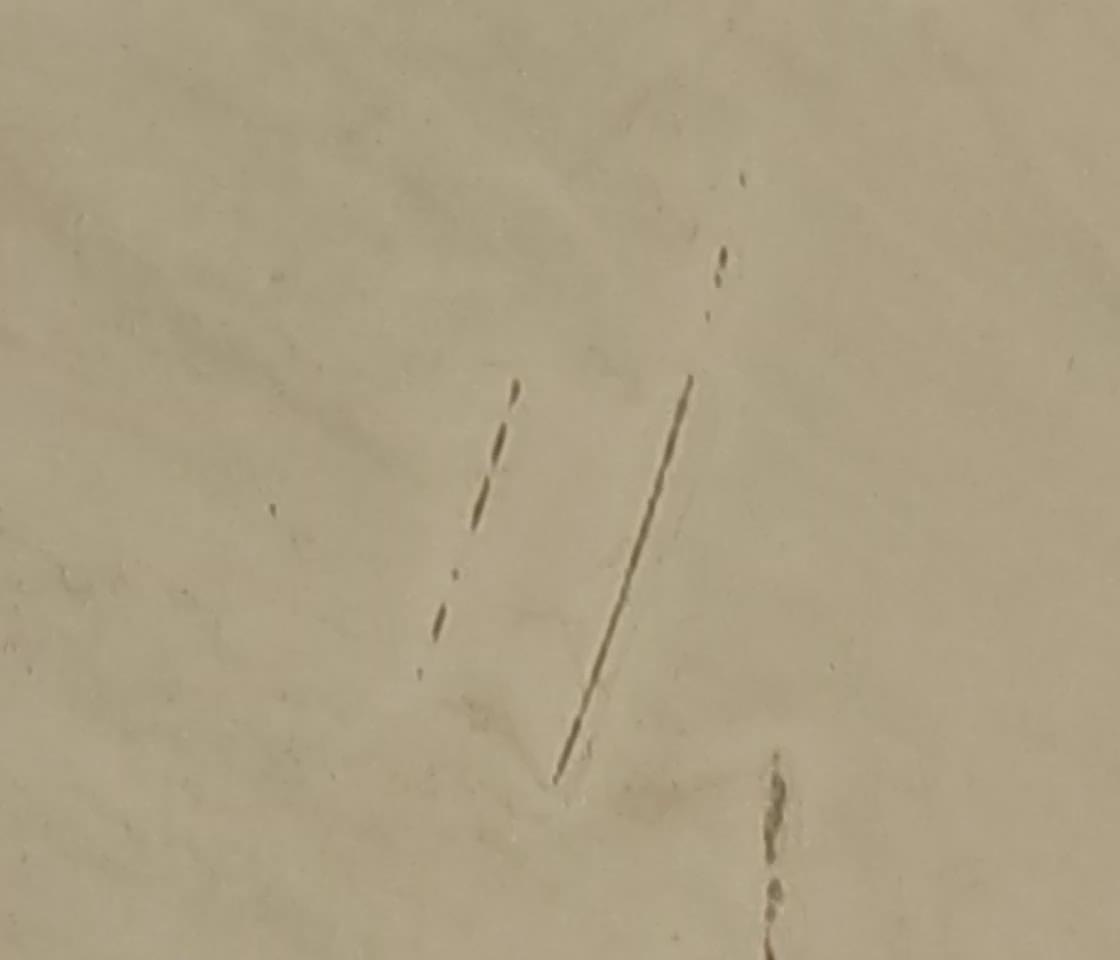scratch: (547, 373, 700, 787)
